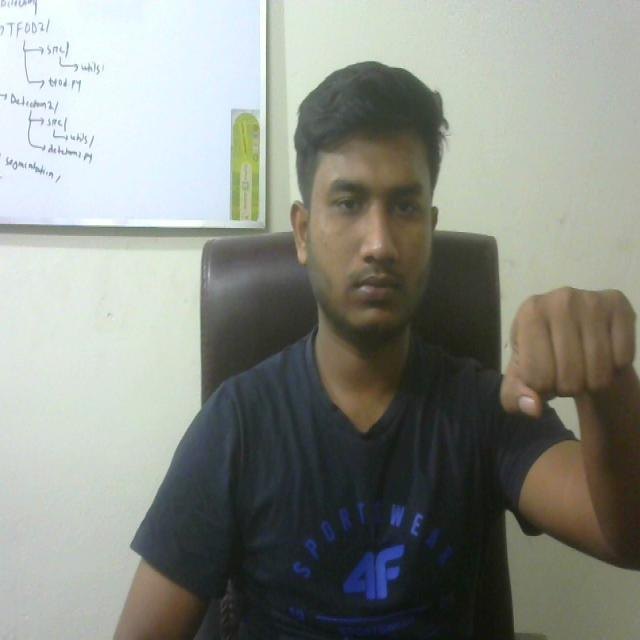Yes: (499, 268, 640, 419)
